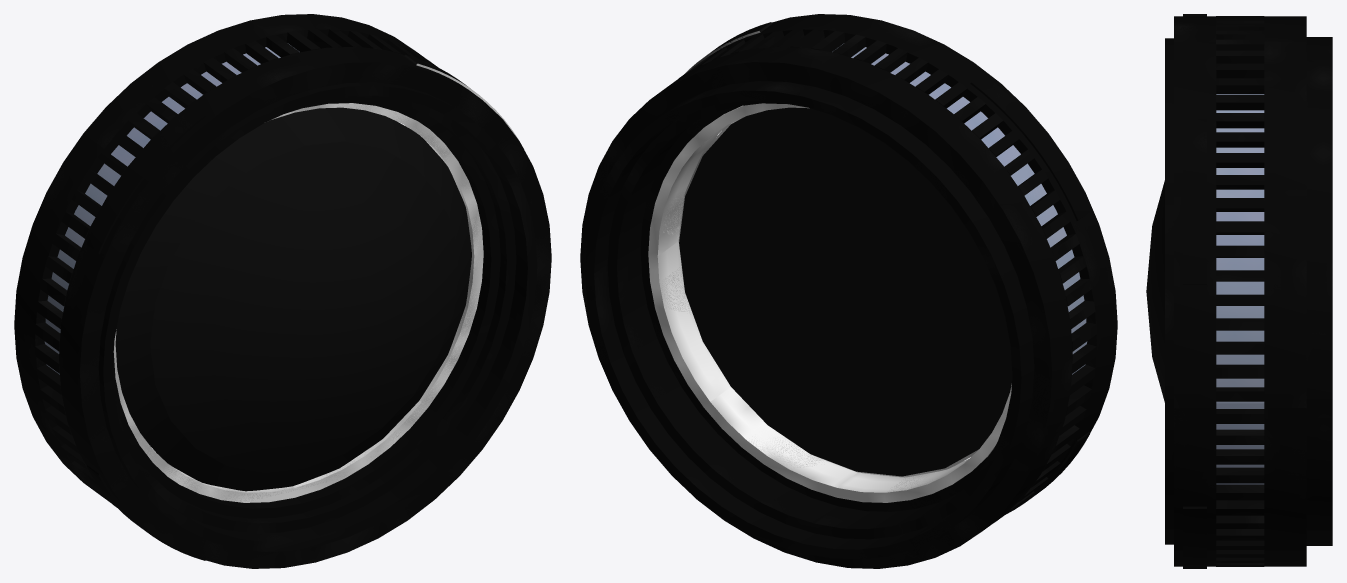
Rendered from module-renderer-01.glb.
The picture shows the model from 3 angles, left to right: view 1: azimuth 30°, elevation 25°; view 2: azimuth 150°, elevation 25°; view 3: azimuth 270°, elevation 25°; orthographic projection.
Visible parts, largest first — view 1: Mesh_0.004; view 2: Mesh_0.004; view 3: Mesh_0.004.
Part boxes in pixels (bbox=[...]): Mesh_0.004: bbox=[14, 14, 551, 568]; Mesh_0.004: bbox=[580, 14, 1117, 568]; Mesh_0.004: bbox=[1146, 14, 1332, 568].
Size of the model in its own units: 2.03 by 2.03 by 0.686.
Materials: 1 (1 with a texture image).
